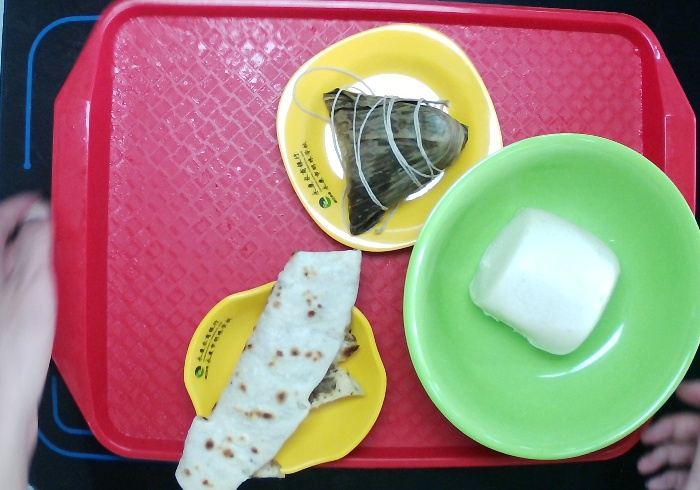YKMZ-Huang_Se_Ao_Bian_Wan: (177, 265, 396, 490)
YKMZ-Huang_Se_Fang_Die: (264, 4, 514, 259)
YKMZ-Lv_Se_Tang_Wan: (392, 127, 700, 465)
